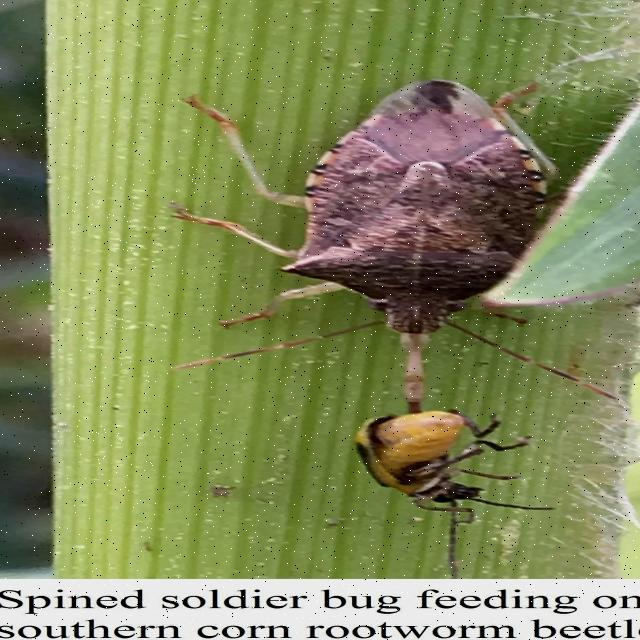gusano_verde: (362, 408, 564, 526)
